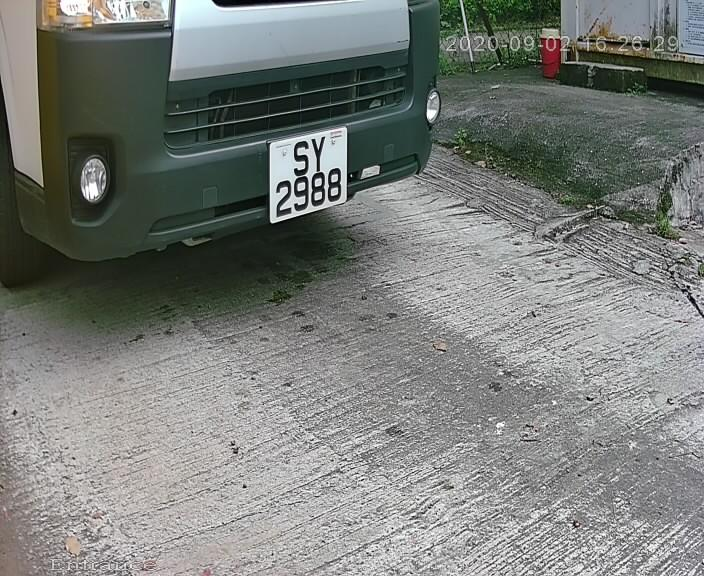License Plate: (258, 127, 359, 224)
